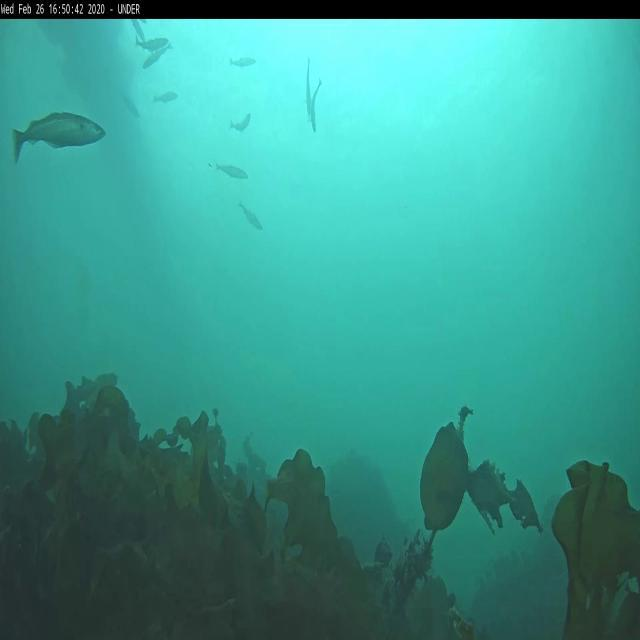fish: (13, 112, 109, 165), (213, 158, 250, 182), (144, 43, 172, 72), (238, 201, 265, 230), (136, 32, 172, 50), (230, 110, 252, 138), (304, 56, 312, 118), (311, 80, 319, 136), (230, 56, 258, 72), (124, 96, 141, 116), (157, 90, 179, 105), (130, 18, 142, 36)
